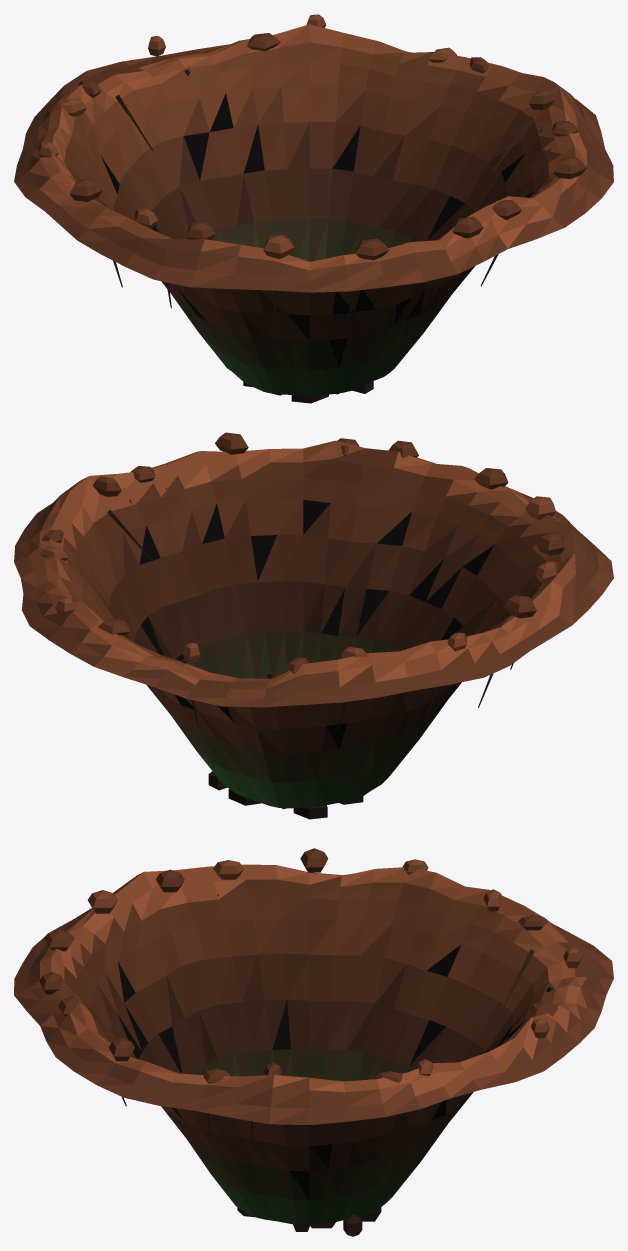
File: wild-bosses-the-sinkhole.glb
3 views of the same model, one above another, from view 1: azimuth 30°, elevation 25°; view 2: azimuth 150°, elevation 25°; view 3: azimuth 270°, elevation 25° (orthographic).
Size of the model in its own units: 464 by 214 by 467.
